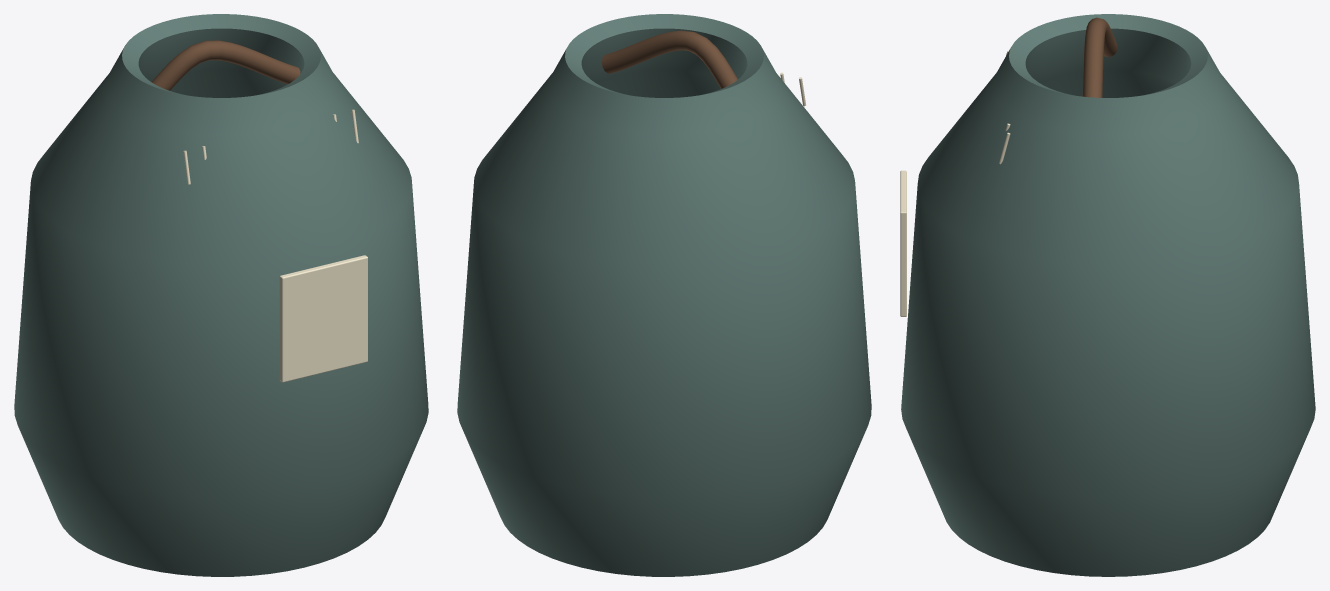
File: abandoned-telephone-exchange-abandoned-mail-sack-04e426c8__32019.glb
3 views of the same model, side by side, from view 1: azimuth 30°, elevation 25°; view 2: azimuth 150°, elevation 25°; view 3: azimuth 270°, elevation 25° (orthographic).
Parts seen in each view (by area): view 1: abandoned-mail-sack; view 2: abandoned-mail-sack; view 3: abandoned-mail-sack.
Boxes of the visible parts, x1,y1,x2,y2 form: abandoned-mail-sack: (14, 14, 428, 576); abandoned-mail-sack: (457, 14, 871, 576); abandoned-mail-sack: (900, 14, 1315, 576).
Bounding box in the file's own units: 0.5 × 0.6319 × 0.501.
